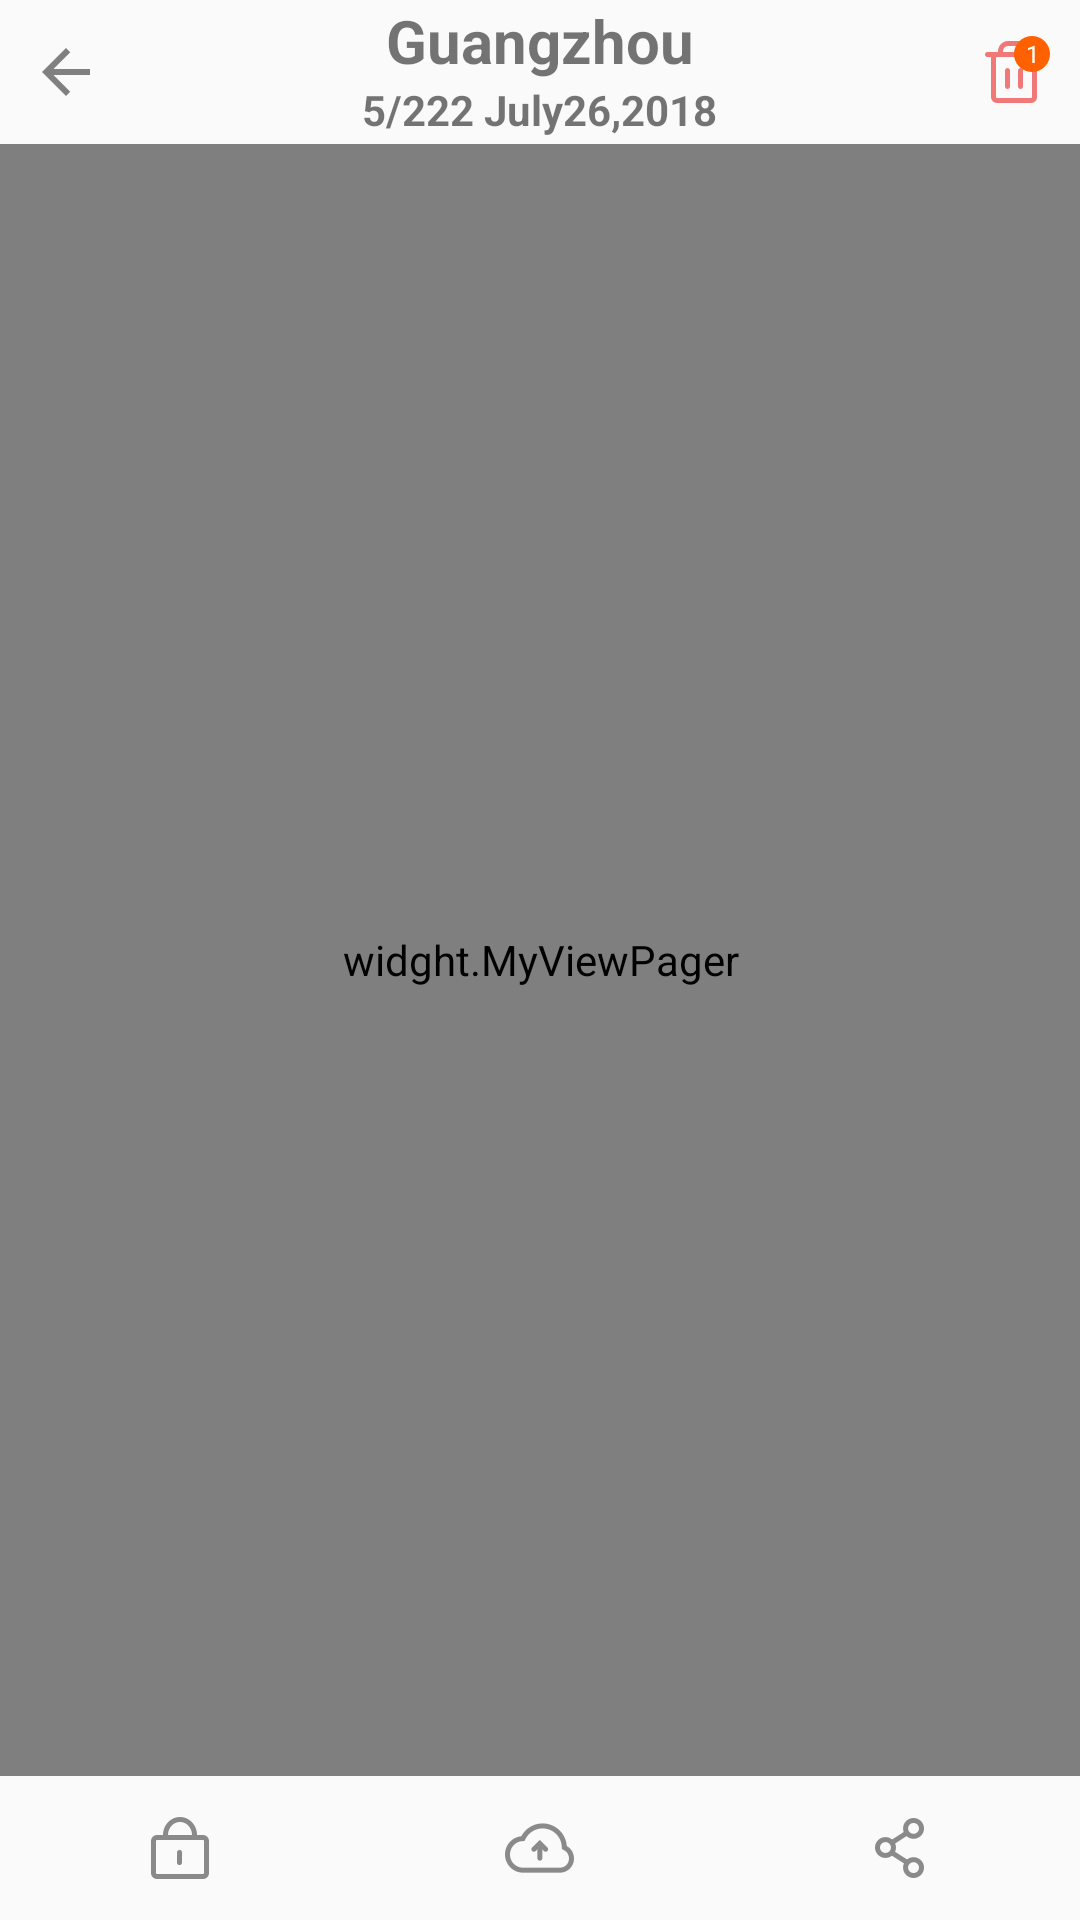

Icon bounding boxes for this 1080 x 1920 phone screenshot, format (x1, y1, x2, y2):
activity show back: (42, 48, 90, 96)
delete: (985, 36, 1050, 103)
lock: (151, 1817, 209, 1879)
share: (875, 1818, 924, 1878)
upload: (505, 1823, 574, 1873)
